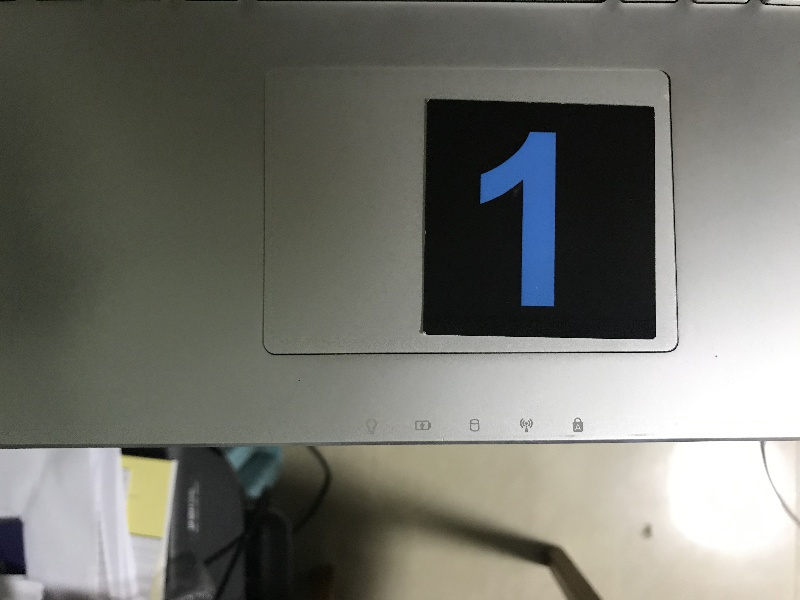One-6: (431, 108, 653, 332)
